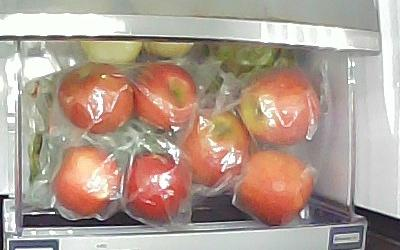apple_vinyl: (238, 71, 320, 150), (234, 151, 315, 226), (56, 62, 136, 135), (179, 108, 251, 188), (53, 144, 122, 217), (123, 149, 189, 223), (136, 63, 199, 130)
